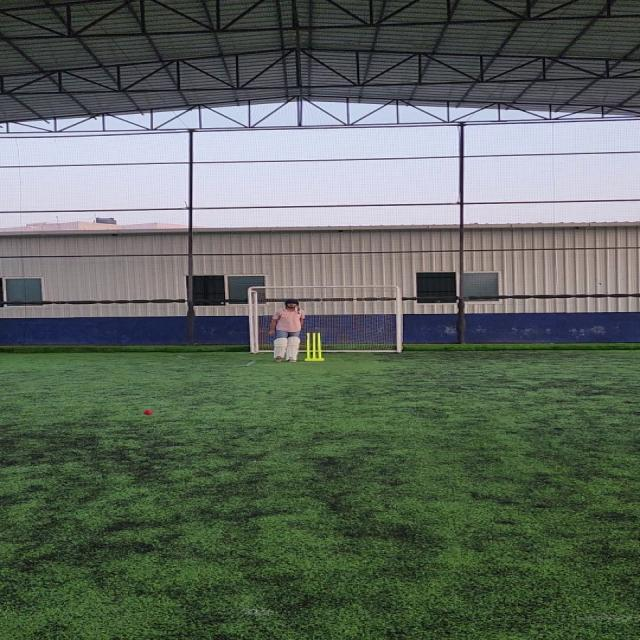ball: (140, 408, 152, 416)
stump: (302, 331, 327, 362)
